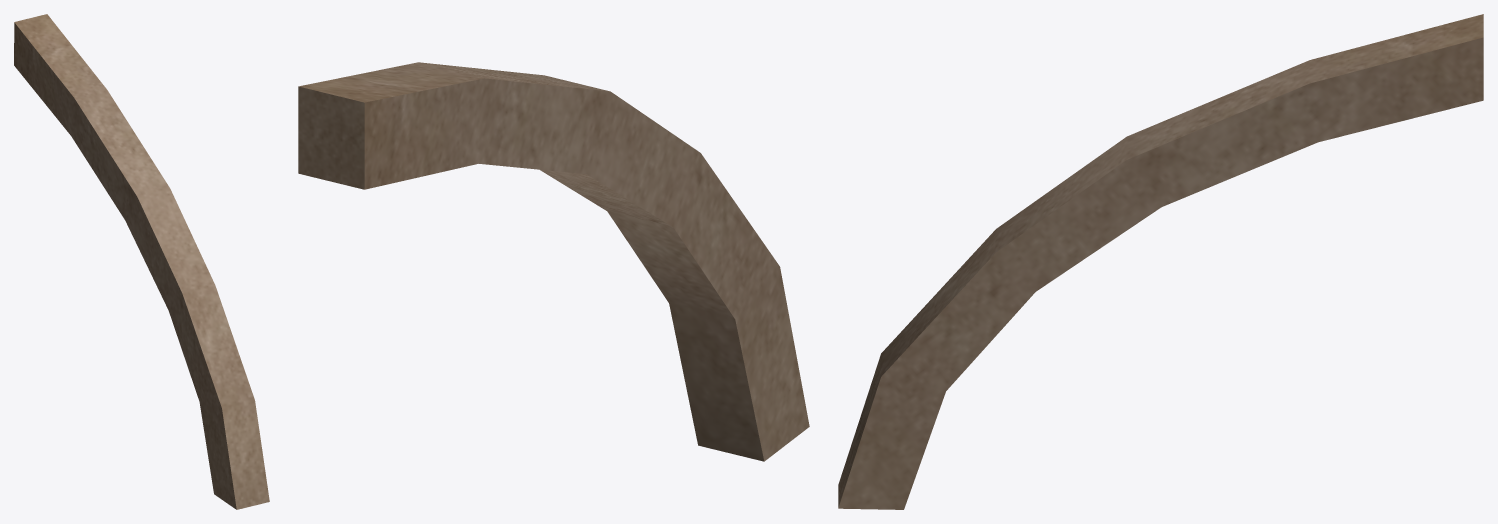
File: RoofPole.fbx
3 views of the same model, side by side, from view 1: azimuth 30°, elevation 25°; view 2: azimuth 150°, elevation 25°; view 3: azimuth 270°, elevation 25° (orthographic). The views are drawn at different scales.
Visible parts, largest first — view 1: M_RoofBeam_MedievalDiningRoom_FinalScene2:blinn7_0; view 2: M_RoofBeam_MedievalDiningRoom_FinalScene2:blinn7_0; view 3: M_RoofBeam_MedievalDiningRoom_FinalScene2:blinn7_0.
Part boxes in pixels (left/top/right/bottom): M_RoofBeam_MedievalDiningRoom_FinalScene2:blinn7_0: left=14, top=14, right=269, bottom=509; M_RoofBeam_MedievalDiningRoom_FinalScene2:blinn7_0: left=298, top=62, right=809, bottom=461; M_RoofBeam_MedievalDiningRoom_FinalScene2:blinn7_0: left=838, top=14, right=1483, bottom=509.
Bounding box in the file's own units: 11.17 × 105 × 130.
1 material, 1 textured.
